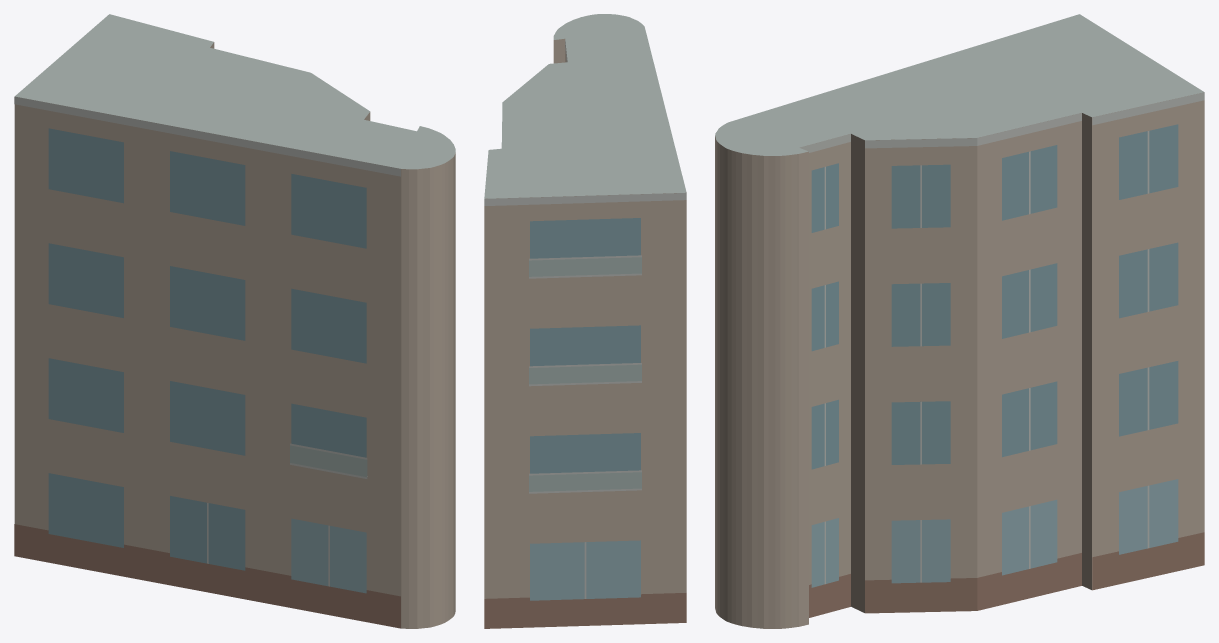
File: survey-upis-32667582.glb
3 renders of one model, left to right at view 1: azimuth 30°, elevation 25°; view 2: azimuth 150°, elevation 25°; view 3: azimuth 270°, elevation 25°, orthographic. The views are drawn at different scales.
Visible parts, largest first — view 1: survey-upis-32667582.tmp; view 2: survey-upis-32667582.tmp; view 3: survey-upis-32667582.tmp.
Part boxes in pixels (x1,y1,x2,y2): survey-upis-32667582.tmp: (14, 14, 455, 628); survey-upis-32667582.tmp: (484, 14, 686, 628); survey-upis-32667582.tmp: (715, 14, 1204, 628).
Size of the model in its own units: 9.21 by 14.3 by 13.42.
